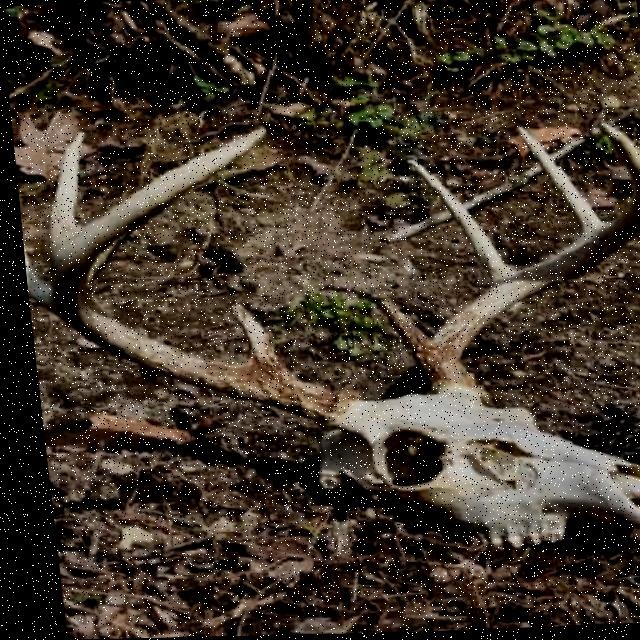L-F: (43, 127, 337, 431)
L-G1: (221, 303, 280, 372)
L-G2: (18, 241, 45, 310)
L-G3: (43, 130, 83, 246)
R-F: (410, 124, 640, 395)
R-G1: (372, 299, 422, 363)
R-G2: (402, 159, 516, 286)
R-G3: (512, 127, 600, 240)
